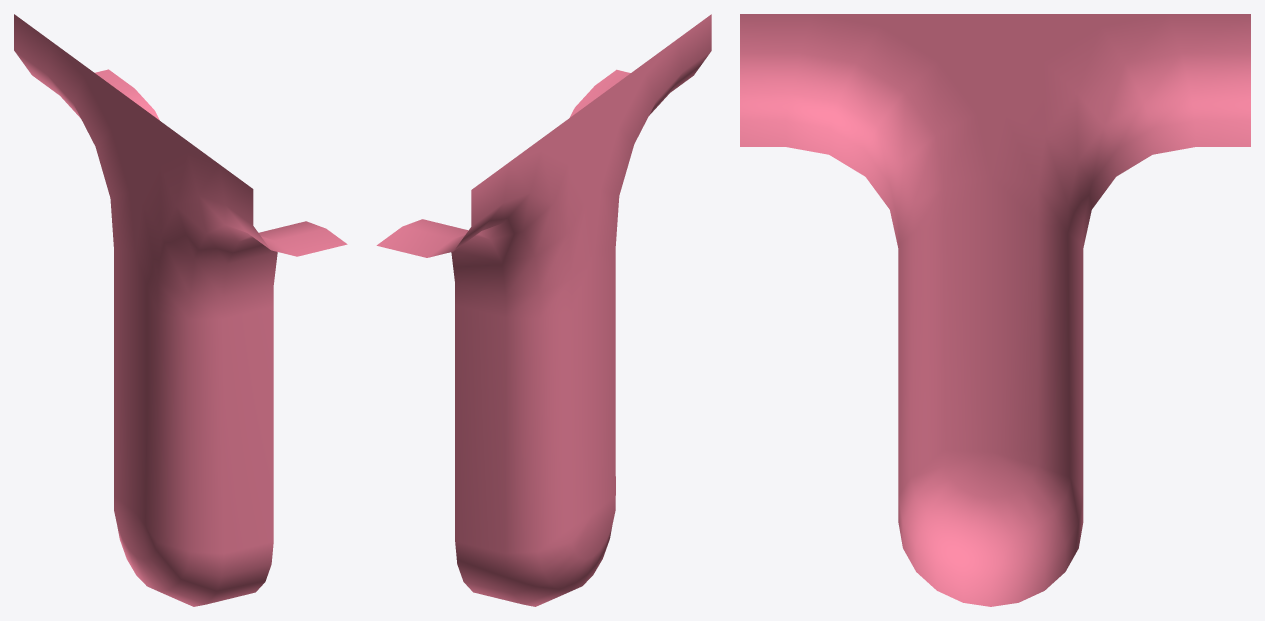
Rendered from SM_M_drop_10.fbx.
3 renders of one model, left to right at view 1: azimuth 30°, elevation 25°; view 2: azimuth 150°, elevation 25°; view 3: azimuth 270°, elevation 25°, orthographic. The views are drawn at different scales.
Visible parts, largest first — view 1: SM_M_drop_10; view 2: SM_M_drop_10; view 3: SM_M_drop_10.
Part boxes in pixels (x1=…): SM_M_drop_10: x1=14, y1=14, x2=347, y2=606; SM_M_drop_10: x1=376, y1=14, x2=711, y2=606; SM_M_drop_10: x1=740, y1=14, x2=1250, y2=606.
Bounding box in the file's own units: 164 × 845 × 719.
1 material, 1 textured.
